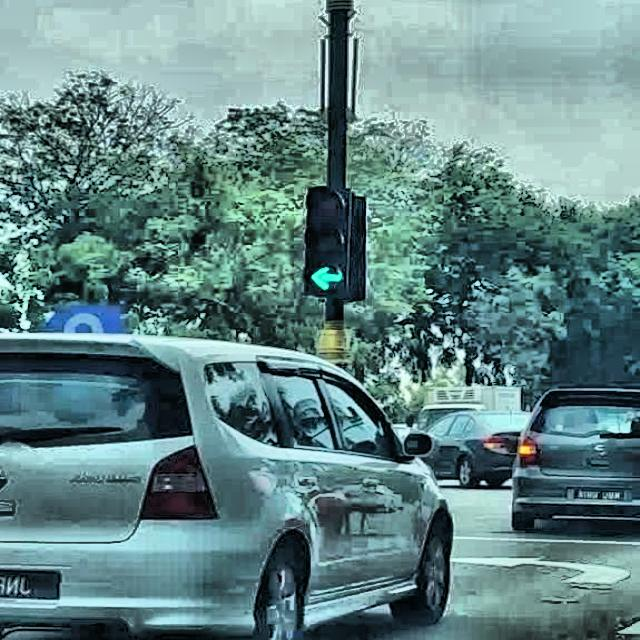green: (302, 185, 352, 296)
